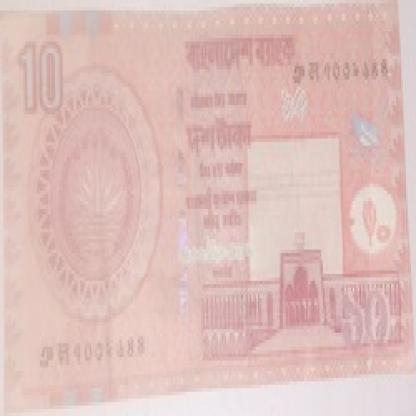Ten Taka: (17, 38, 68, 118), (338, 288, 394, 354)
